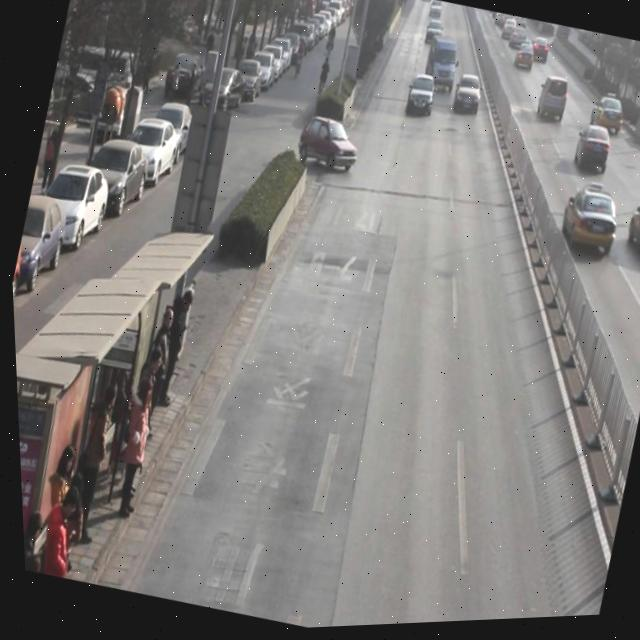car: (550, 178, 626, 265), (290, 113, 365, 184), (566, 124, 616, 187), (530, 76, 572, 129), (585, 93, 627, 143), (615, 191, 640, 273), (400, 74, 439, 126), (447, 73, 486, 123), (512, 43, 538, 79), (505, 29, 530, 59), (421, 21, 445, 52), (527, 39, 551, 70), (427, 3, 443, 23)
truck: (418, 37, 466, 102)
